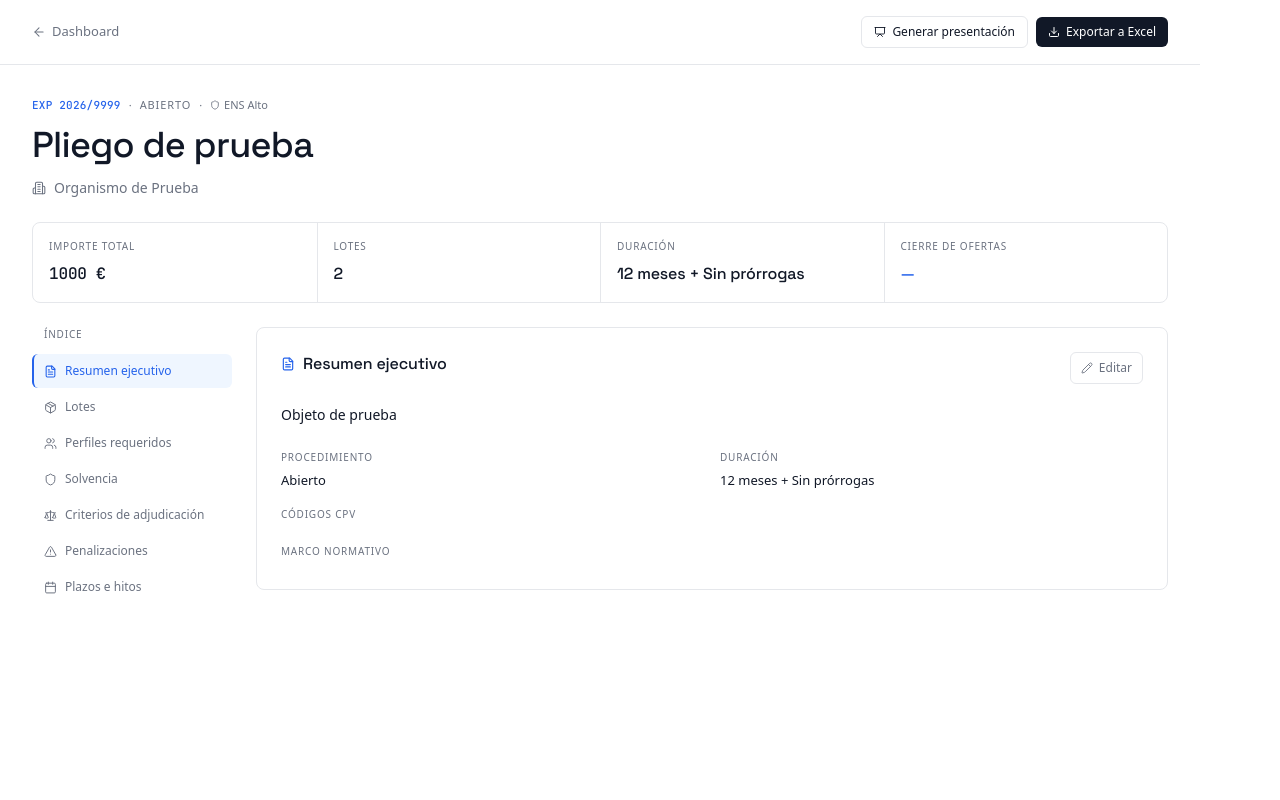
Test: Analysis - aviso de descuadre lotes vs importe › indica "de más" cuando la suma de los lotes supera el importe del pliego
Click the button "Lotes": (132, 407) [32,390,232,424]
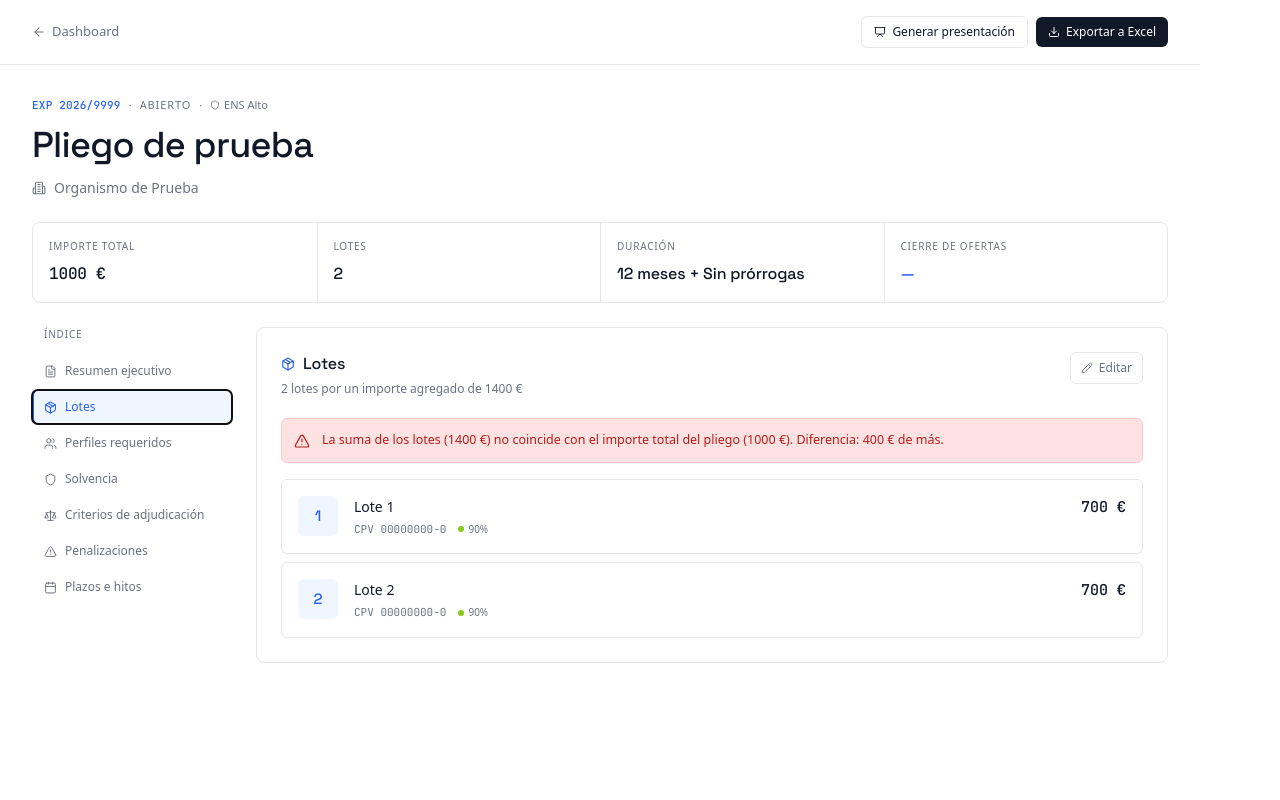
Expected: the text "no coincide con el importe total del pliego" is shown, [487,431,747,448]
Expected: the text "de más" is shown, [898,431,940,448]
